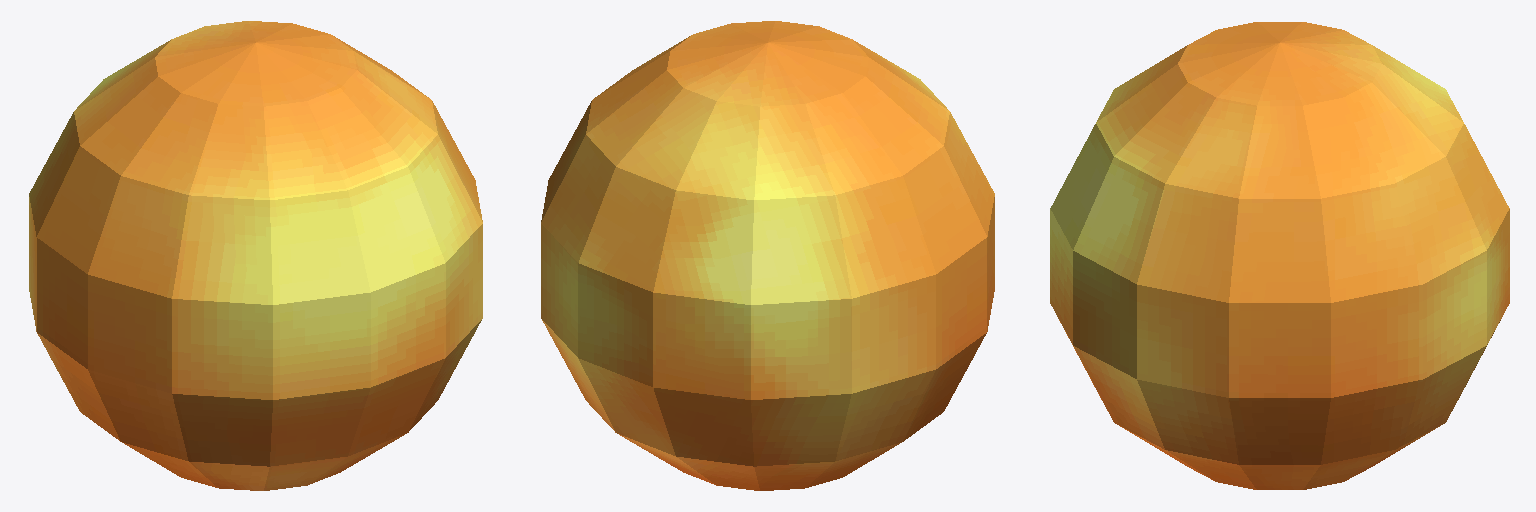
3 renders of one model, left to right at view 1: azimuth 30°, elevation 25°; view 2: azimuth 150°, elevation 25°; view 3: azimuth 270°, elevation 25°, orthographic.
Parts seen in each view (by area): view 1: joy_memory_ball_prop; view 2: joy_memory_ball_prop; view 3: joy_memory_ball_prop.
Boxes of the visible parts, x1,y1,x2,y2 form: joy_memory_ball_prop: [29, 21, 482, 490]; joy_memory_ball_prop: [541, 21, 994, 490]; joy_memory_ball_prop: [1050, 22, 1509, 489].
Bounding box in the file's own units: 133 × 140 × 136.
Materials: 1 (1 with a texture image).